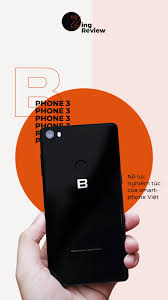bphone: (34, 121, 131, 287)
